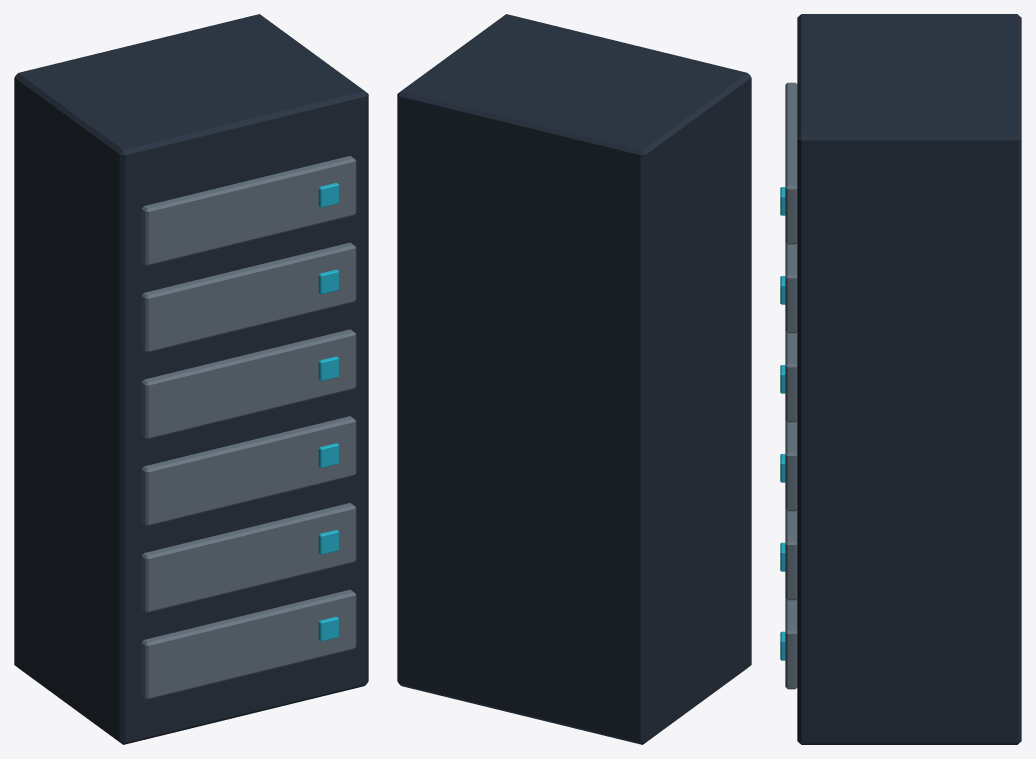
The model's file is server-rack.glb.
3 views of the same model, side by side, from view 1: azimuth 30°, elevation 25°; view 2: azimuth 150°, elevation 25°; view 3: azimuth 270°, elevation 25° (orthographic). The views are drawn at different scales.
Visible parts, largest first — view 1: server-rack_Body; view 2: server-rack_Body; view 3: server-rack_Body.
Boxes of the visible parts, <box> form: server-rack_Body: <box>14,14,368,744</box>; server-rack_Body: <box>397,14,751,744</box>; server-rack_Body: <box>780,14,1021,744</box>.
Size of the model in its own units: 1.05 by 2.4 by 0.86.
